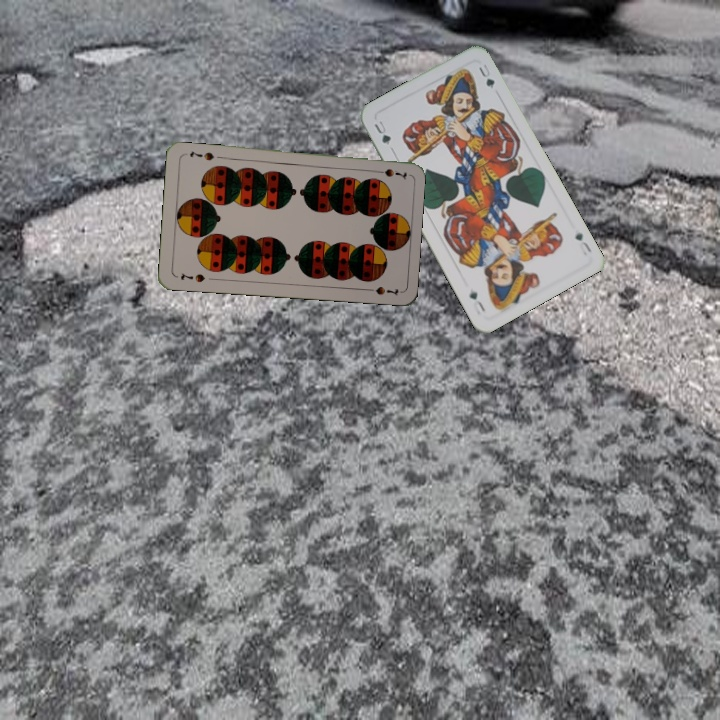GU: (370, 116, 396, 153), (571, 227, 594, 255)
S7: (369, 164, 409, 180), (176, 269, 207, 285)
